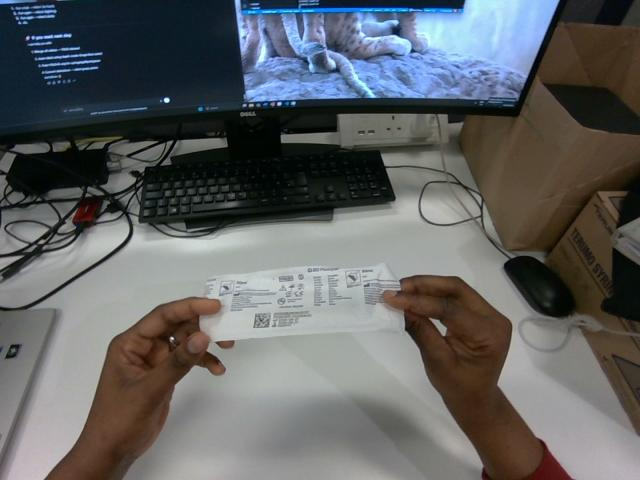syringe: (200, 264, 403, 340)
